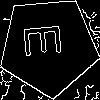E: (23, 21, 71, 59)
